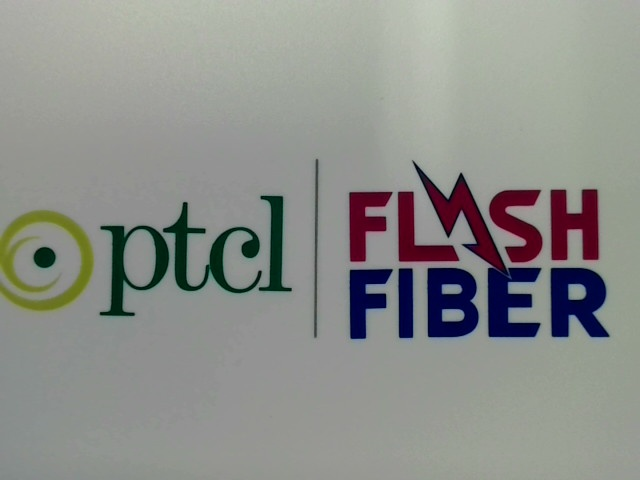BF_PTCL: (0, 184, 296, 331)
